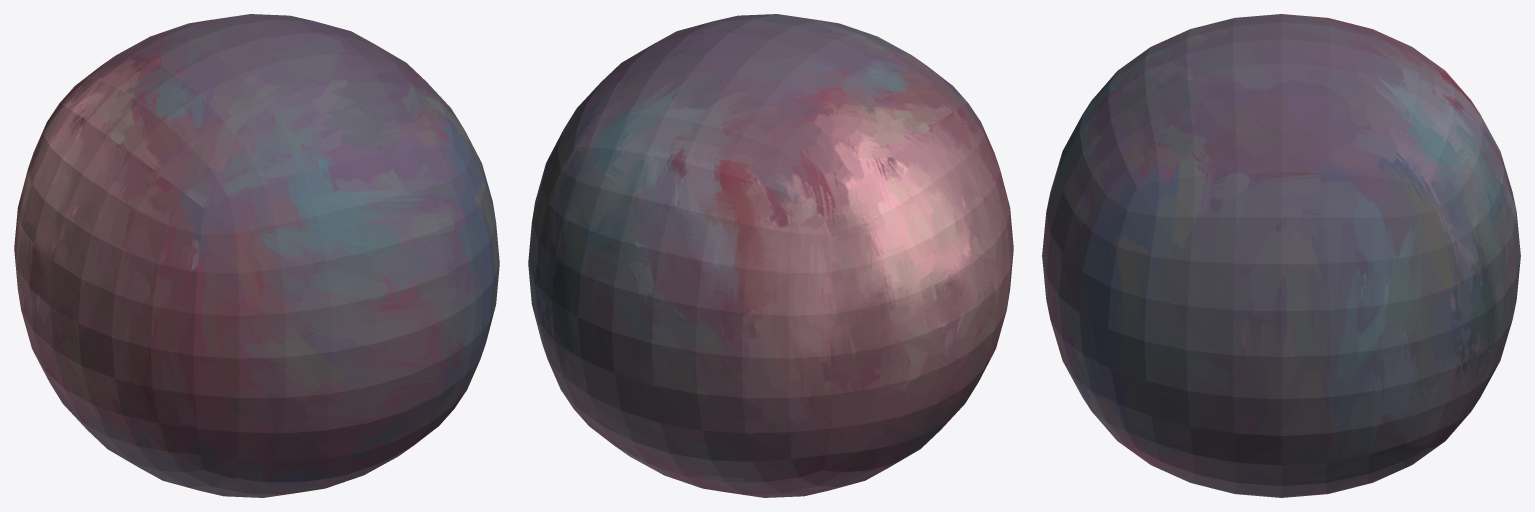
The model's file is tea.obj.
3 renders of one model, left to right at view 1: azimuth 30°, elevation 25°; view 2: azimuth 150°, elevation 25°; view 3: azimuth 270°, elevation 25°, orthographic.
Parts seen in each view (by area): view 1: Cube.001; view 2: Cube.001; view 3: Cube.001.
Part boxes in pixels (x1=…): Cube.001: x1=14, y1=14, x2=499, y2=497; Cube.001: x1=528, y1=14, x2=1013, y2=497; Cube.001: x1=1042, y1=14, x2=1520, y2=497.
Size of the model in its own units: 201 by 201 by 201.
